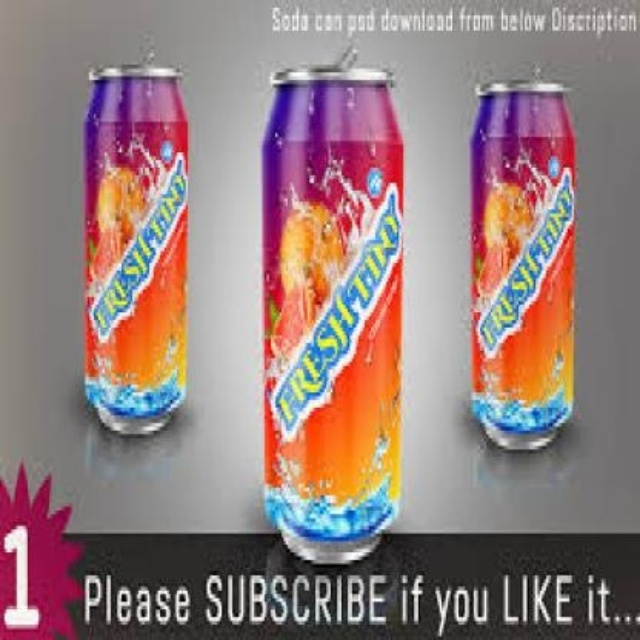trash: (263, 66, 402, 562), (471, 82, 574, 448), (85, 65, 186, 434)
